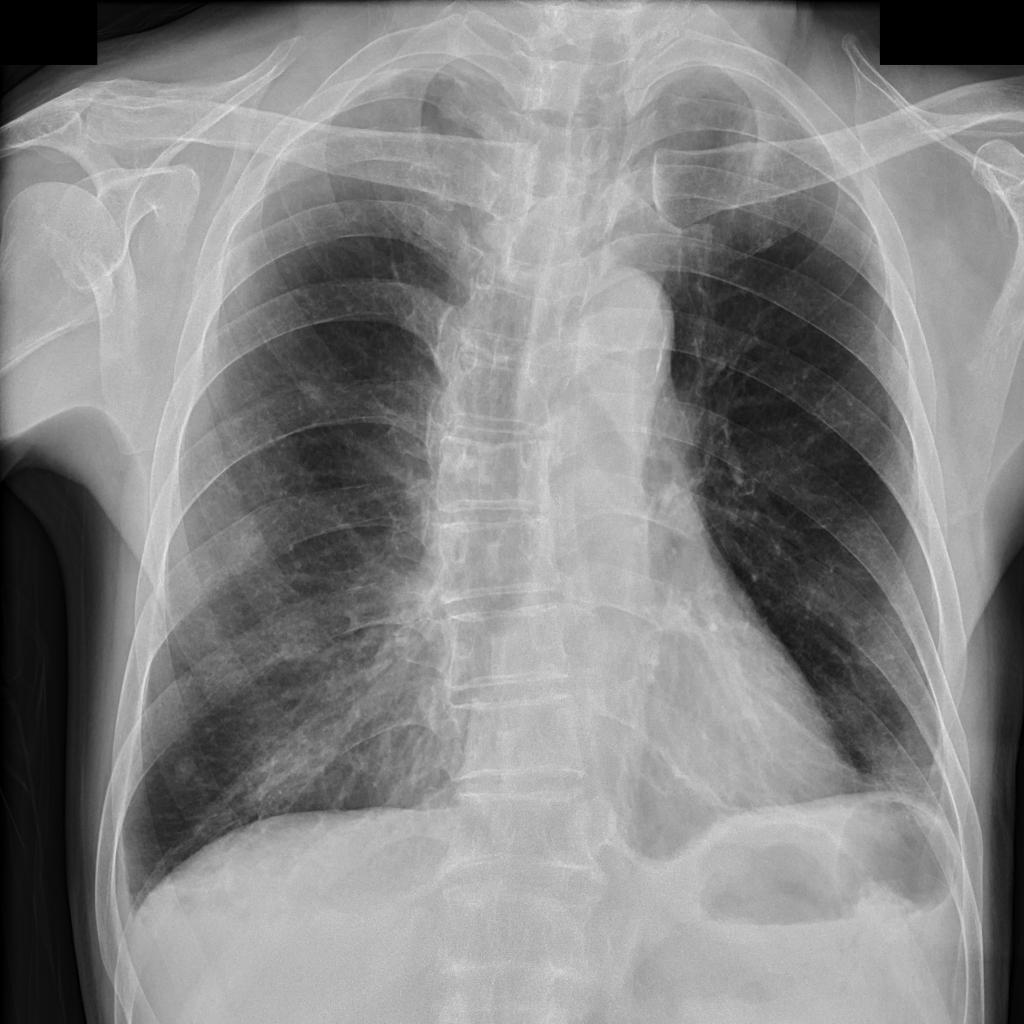Nodule: (174, 755, 199, 784)
